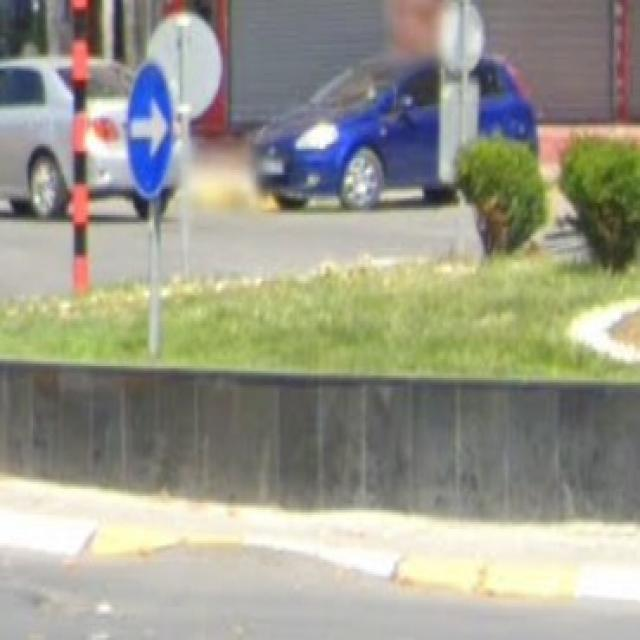Turn Right: (119, 61, 176, 196)
